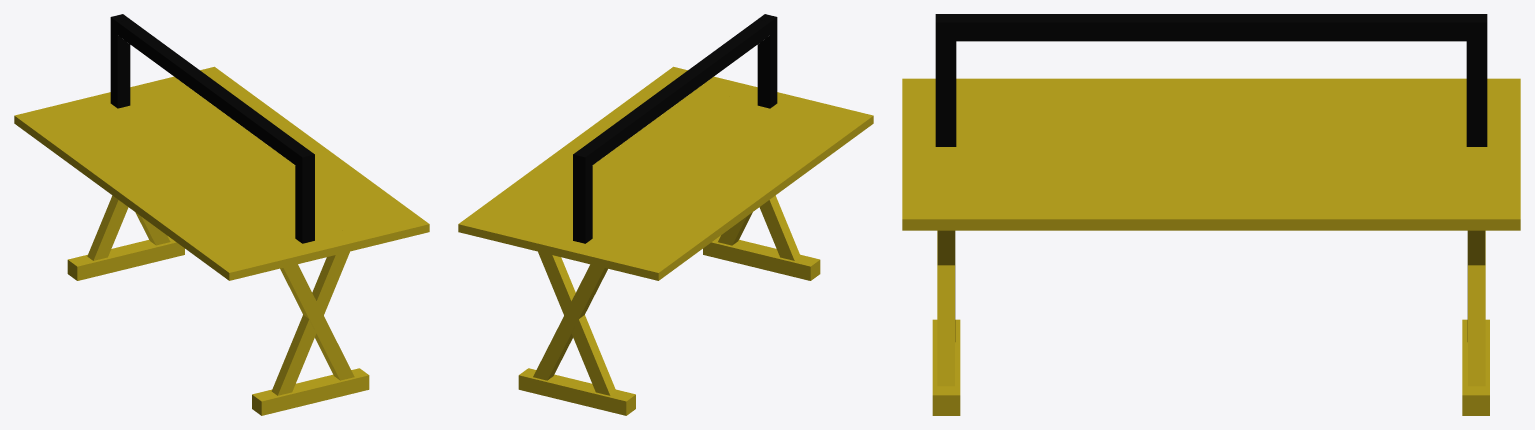
File: desk.fbx
3 views of the same model, side by side, from view 1: azimuth 30°, elevation 25°; view 2: azimuth 150°, elevation 25°; view 3: azimuth 270°, elevation 25° (orthographic). The views are drawn at different scales.
Parts seen in each view (by area): view 1: Cube; view 2: Cube; view 3: Cube.
Part boxes in pixels (bbox=[...]): Cube: bbox=[14, 14, 429, 415]; Cube: bbox=[458, 14, 873, 415]; Cube: bbox=[902, 14, 1520, 415].
Size of the model in its own units: 969 by 1144 by 1801.
